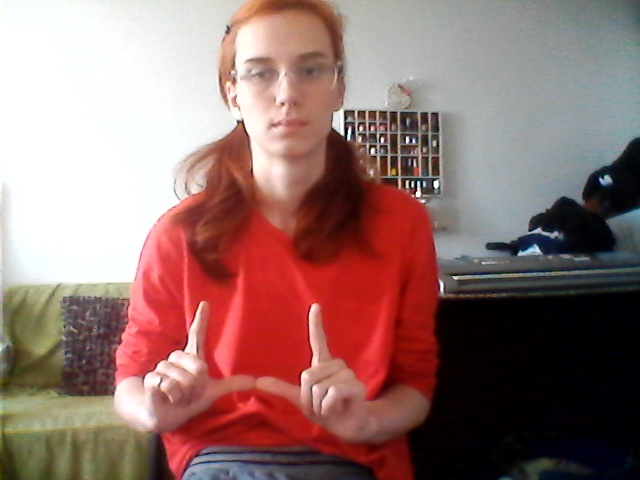u: (142, 297, 384, 451)
